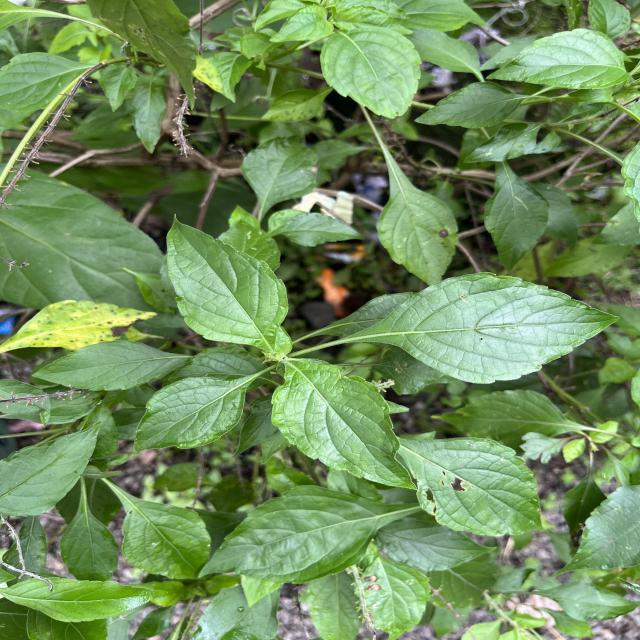Ocimum gratissimum: (316, 269, 622, 386), (194, 480, 416, 587), (268, 355, 422, 492), (162, 211, 292, 355), (398, 436, 550, 538), (374, 156, 462, 284), (132, 364, 257, 454), (316, 22, 424, 122), (0, 419, 105, 521), (482, 26, 636, 93), (25, 338, 198, 394), (3, 574, 173, 624), (480, 168, 552, 278)
